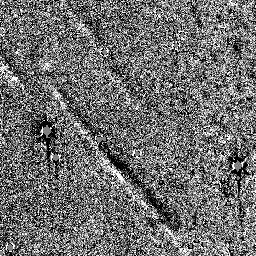LE: (53, 87, 188, 252), (64, 10, 105, 51), (101, 64, 144, 103), (1, 49, 34, 98)
